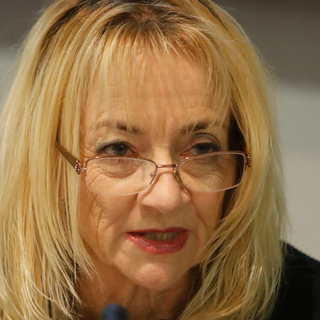eye: (97, 136, 140, 164), (180, 134, 222, 162)
